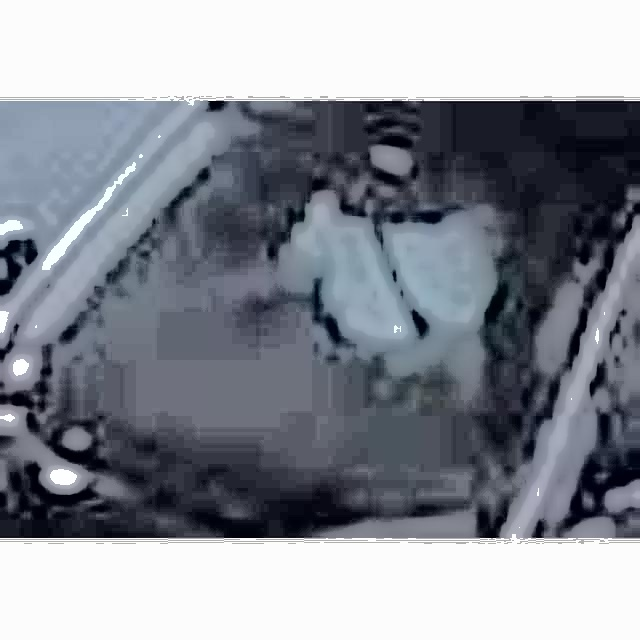pakai: (268, 160, 496, 408)
